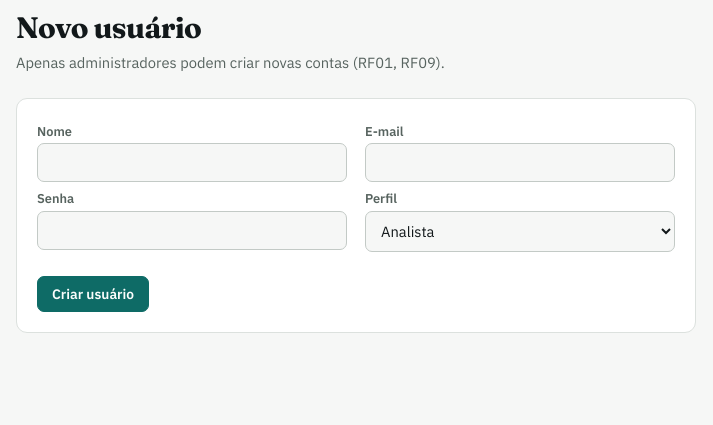
Scenario: CreateUserPage › exibe erro ao tentar criar com e-mail já existente
Type "Duplicado" into the field labelled "Nome" at (192, 163), box [37,143,347,182]
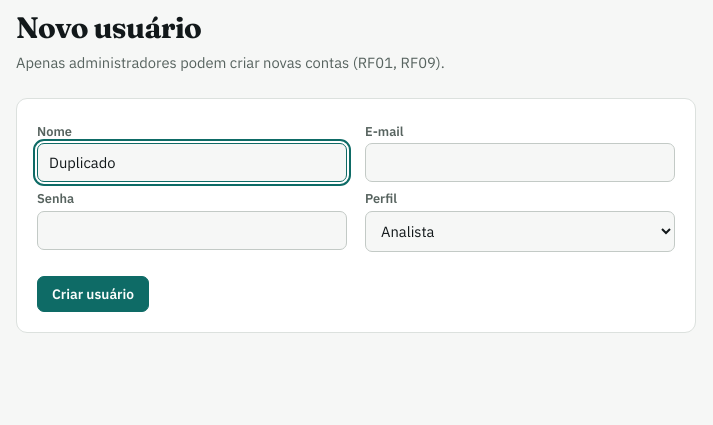
Type "admin@campanhacerta.com" into the field labelled "E-mail" at (520, 163), box [365,143,675,182]
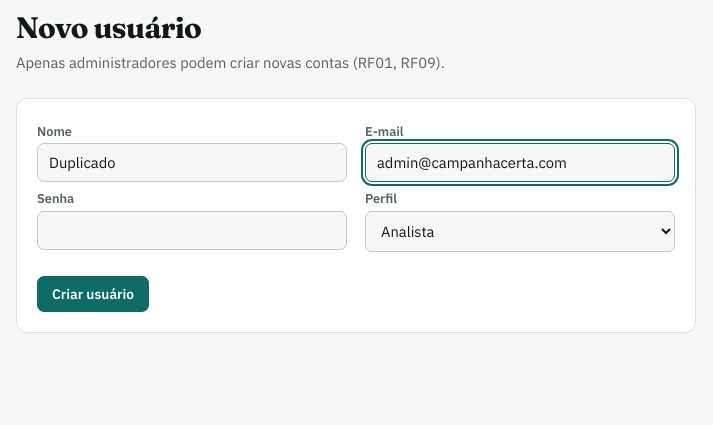
Type "outrasenha" into the password field labelled "Senha" at (192, 230), box [37,211,347,250]
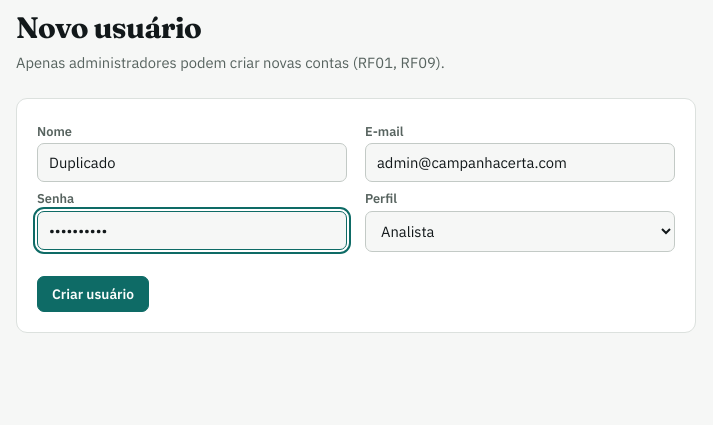
Click the button "Criar usuário" at (93, 294), box [37,276,149,312]
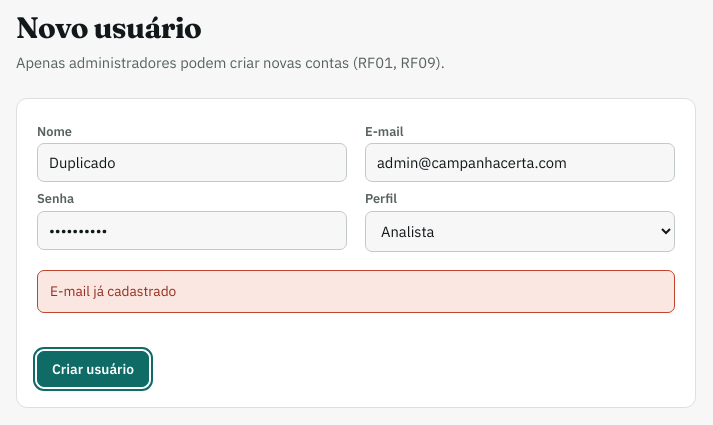
Now the text "E-mail já cadastrado" is shown, box [37,270,675,313]
